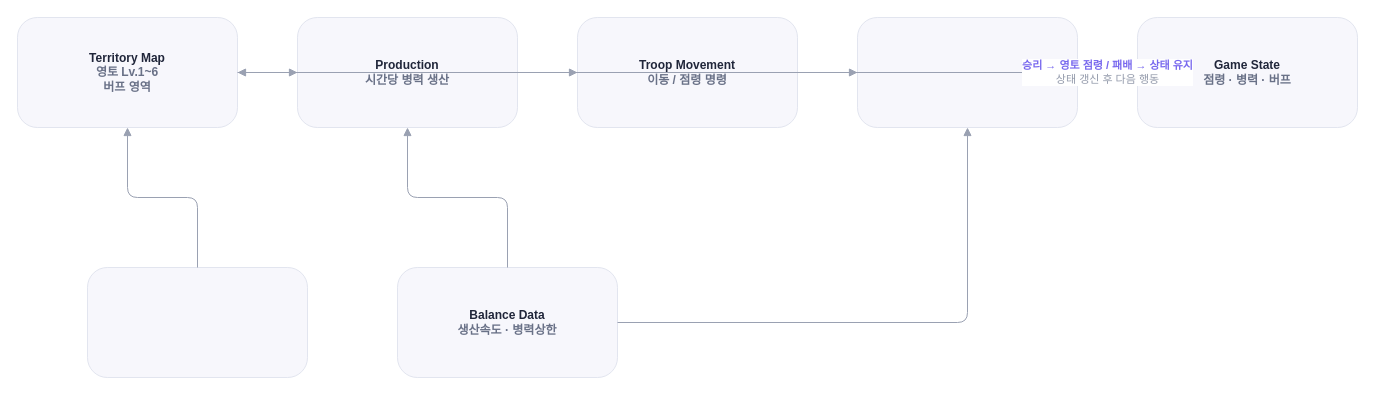
The diagram is 1375 pixels wide and 395 high, and some of its shapes have lost their labels. The centre of each missing label's shape, as x and y in pixels:
"2D Game UI Godot" belongs at [197,322].
"Battle Resolver 공격 병력 vs 수비 병력" belongs at [967,72].
